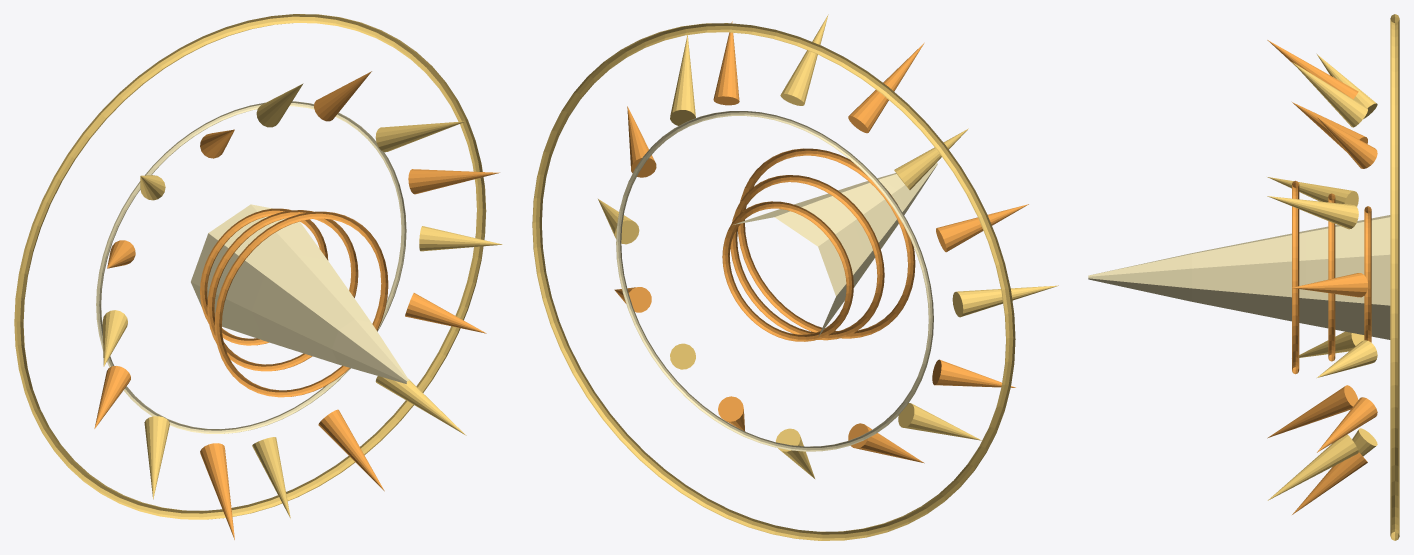
3 views of the same model, side by side, from view 1: azimuth 30°, elevation 25°; view 2: azimuth 150°, elevation 25°; view 3: azimuth 270°, elevation 25° (orthographic). The views are drawn at different scales.
Visible parts, largest first — view 1: R_vertical_slam, R_landing_outer, R_landing_inner, R_vertical_ring_1.0, R_vertical_ring_0.65, R_vertical_ring_0.3, R_debris_11, R_debris_13, R_debris_2, R_debris_1, R_debris_10, R_debris_0 (+9 smaller); view 2: R_landing_outer, R_vertical_slam, R_landing_inner, R_vertical_ring_1.0, R_vertical_ring_0.65, R_vertical_ring_0.3, R_debris_8, R_debris_5, R_debris_2, R_debris_4, R_debris_7, R_debris_10 (+8 smaller); view 3: R_vertical_slam, R_landing_outer, R_vertical_ring_1.0, R_debris_14, R_debris_11, R_debris_2, R_debris_4, R_debris_1, R_vertical_ring_0.65, R_debris_15, R_debris_13, R_vertical_ring_0.3 (+8 smaller).
Part boxes in pixels (x1=…): R_vertical_slam: x1=191, y1=204, x2=409, y2=383; R_landing_outer: x1=14, y1=14, x2=486, y2=519; R_landing_inner: x1=96, y1=101, x2=406, y2=433; R_vertical_ring_1.0: x1=214, y1=211, x2=388, y2=397; R_vertical_ring_0.65: x1=207, y1=210, x2=358, y2=371; R_vertical_ring_0.3: x1=200, y1=208, x2=328, y2=345; R_debris_11: x1=200, y1=443, x2=234, y2=539; R_debris_13: x1=318, y1=409, x2=384, y2=491; R_debris_2: x1=375, y1=121, x2=465, y2=152; R_debris_1: x1=408, y1=169, x2=499, y2=194; R_debris_10: x1=144, y1=416, x2=169, y2=499; R_debris_0: x1=419, y1=226, x2=502, y2=251; R_landing_outer: x1=532, y1=23, x2=1015, y2=540; R_vertical_slam: x1=732, y1=162, x2=937, y2=336; R_landing_inner: x1=616, y1=111, x2=933, y2=451; R_vertical_ring_1.0: x1=738, y1=148, x2=915, y2=338; R_vertical_ring_0.65: x1=730, y1=175, x2=884, y2=340; R_vertical_ring_0.3: x1=722, y1=201, x2=853, y2=341; R_debris_8: x1=952, y1=285, x2=1058, y2=317; R_debris_5: x1=848, y1=42, x2=924, y2=133; R_debris_2: x1=670, y1=35, x2=695, y2=125; R_debris_4: x1=780, y1=14, x2=828, y2=105; R_debris_7: x1=936, y1=204, x2=1028, y2=252; R_debris_10: x1=898, y1=403, x2=981, y2=440; R_vertical_slam: x1=1088, y1=215, x2=1390, y2=339; R_landing_outer: x1=1390, y1=14, x2=1399, y2=540; R_vertical_ring_1.0: x1=1292, y1=180, x2=1299, y2=374; R_debris_14: x1=1267, y1=434, x2=1358, y2=500; R_debris_11: x1=1267, y1=385, x2=1358, y2=438; R_debris_2: x1=1267, y1=196, x2=1358, y2=229; R_debris_4: x1=1292, y1=62, x2=1367, y2=127; R_debris_1: x1=1292, y1=273, x2=1367, y2=297; R_vertical_ring_0.65: x1=1328, y1=193, x2=1335, y2=361; R_debris_15: x1=1317, y1=397, x2=1377, y2=452; R_debris_13: x1=1292, y1=452, x2=1367, y2=514; R_vertical_ring_0.3: x1=1364, y1=206, x2=1371, y2=342.
Bounding box in the file's own units: 5.09 × 5.09 × 3.
